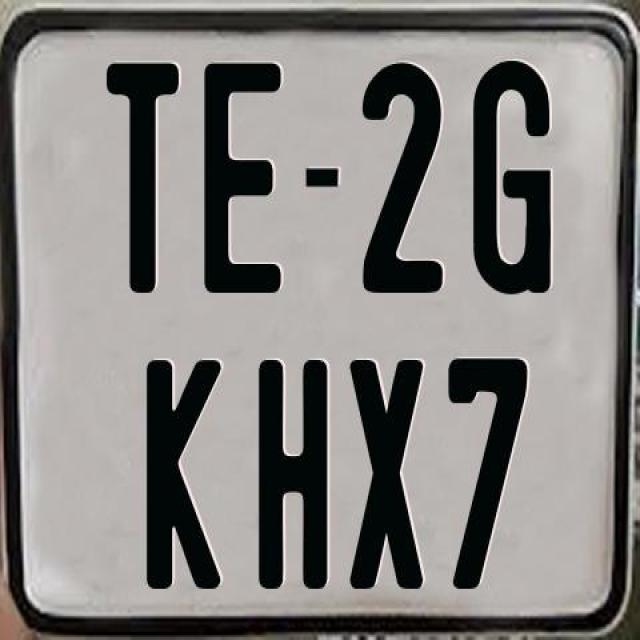2: (358, 62, 441, 293)
7: (448, 357, 532, 597)
E: (204, 61, 282, 300)
G: (471, 59, 556, 293)
H: (254, 356, 326, 594)
K: (142, 358, 218, 594)
T: (104, 59, 184, 299)
X: (346, 358, 424, 597)
